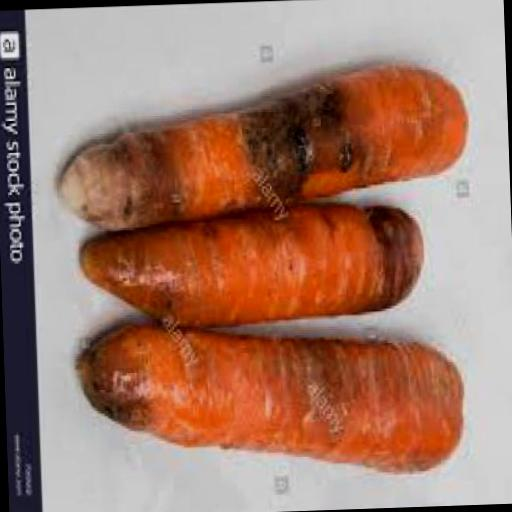biodegradable: (72, 306, 466, 484), (56, 61, 471, 228), (78, 191, 430, 328)
